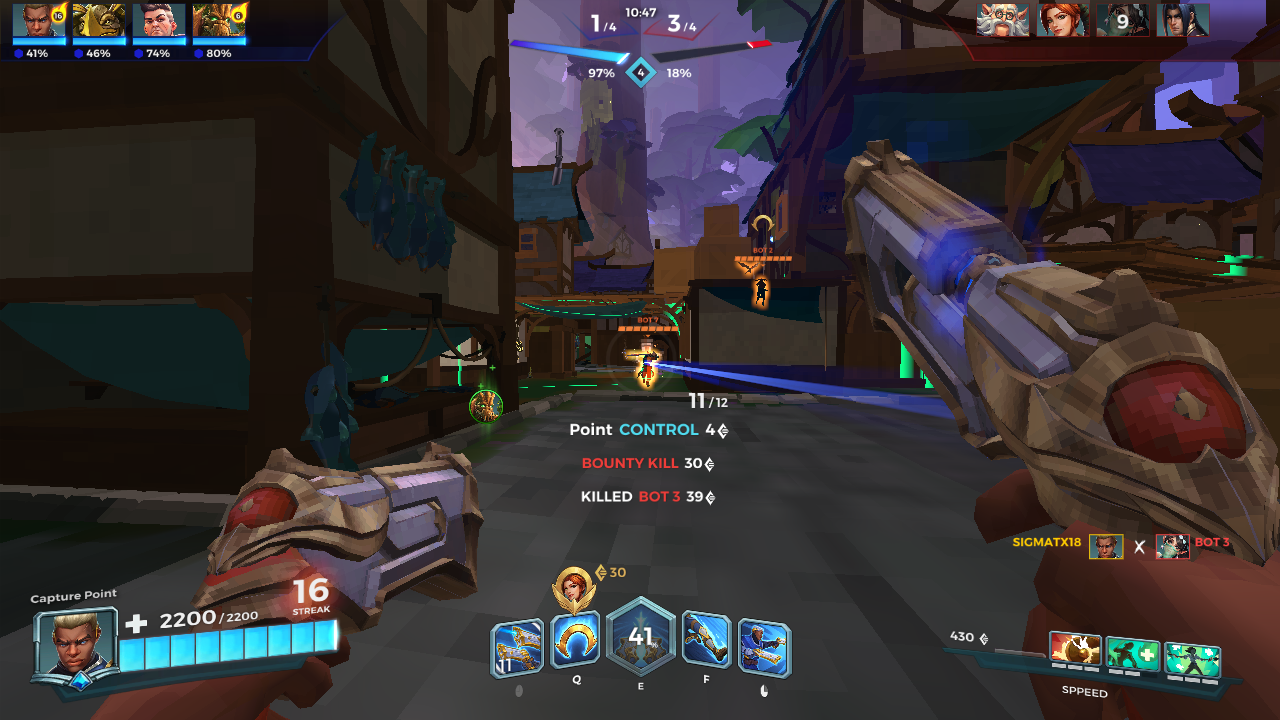model: (629, 342, 662, 392), (752, 271, 768, 310)
